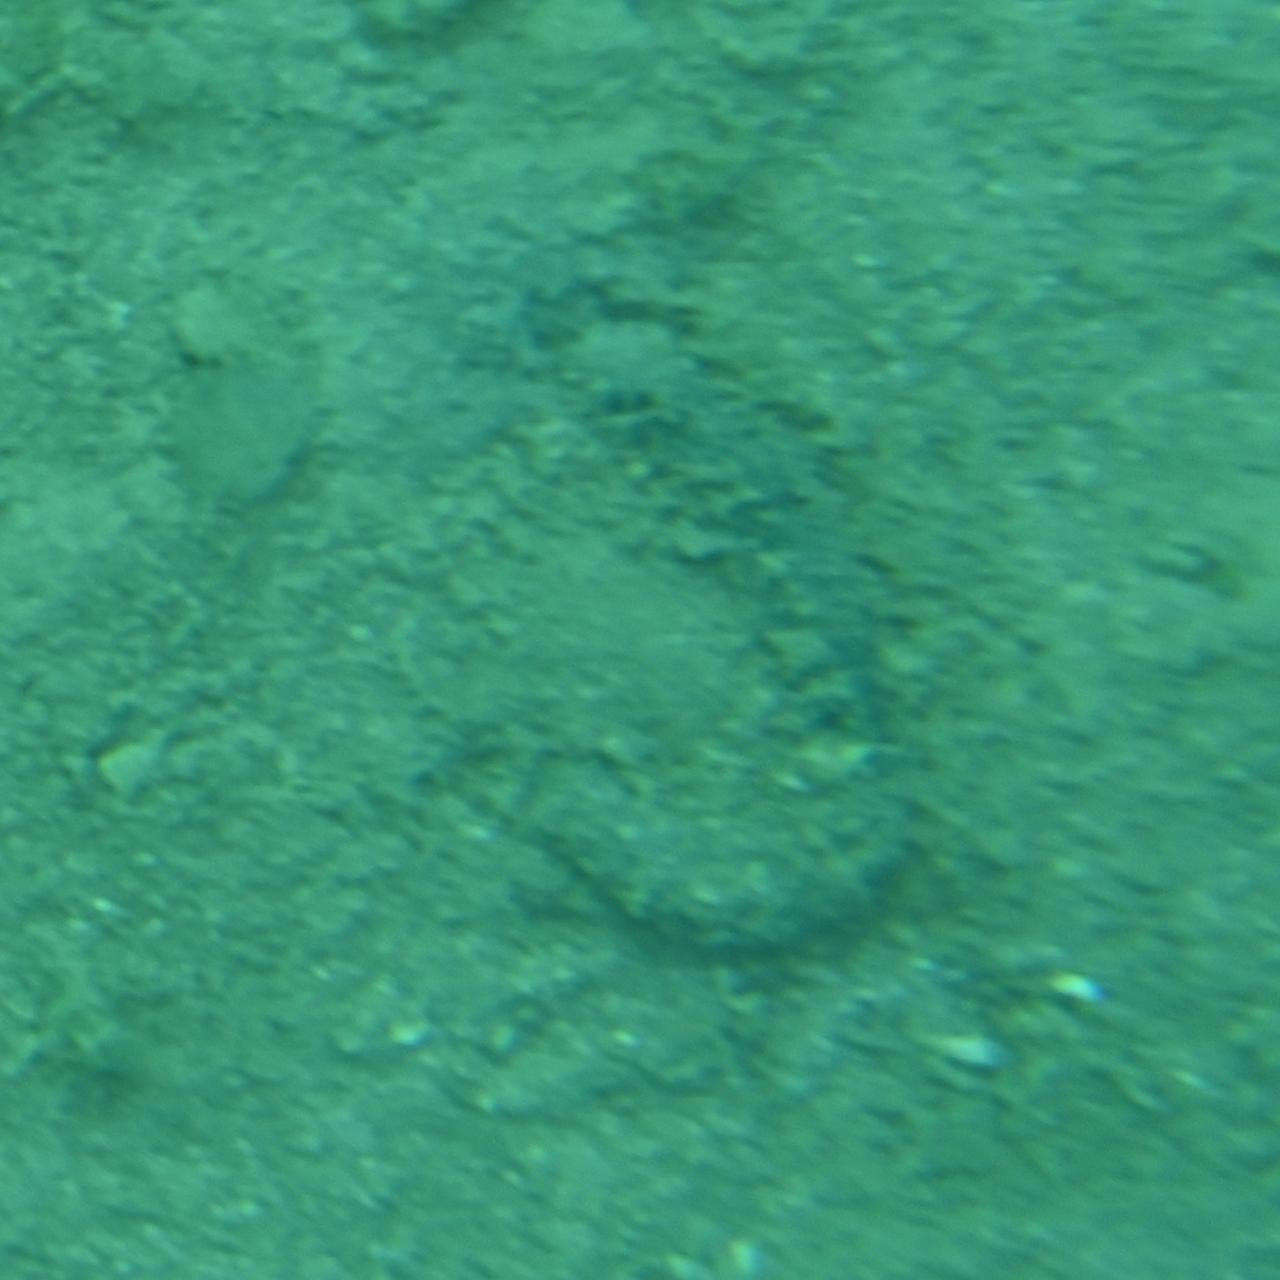Holothuria tubulosa: (526, 304, 946, 976)
